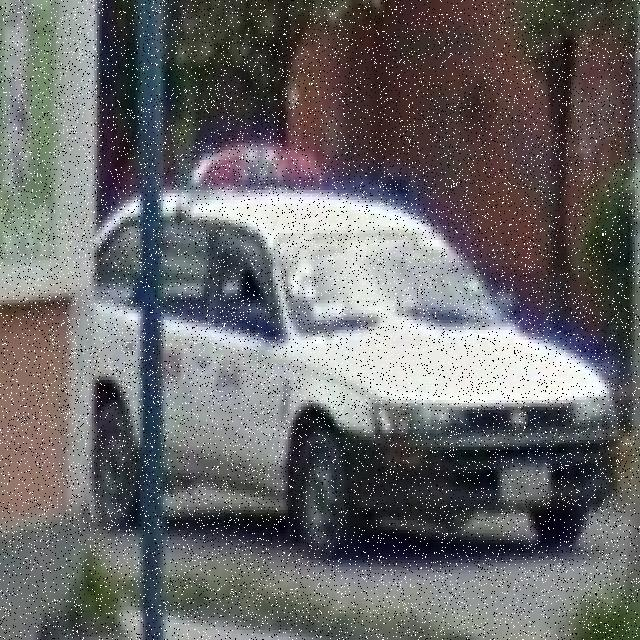cars: (95, 160, 620, 548)
